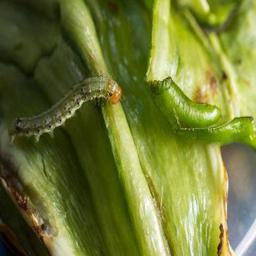Tobacco_budworm: (5, 74, 123, 145)
